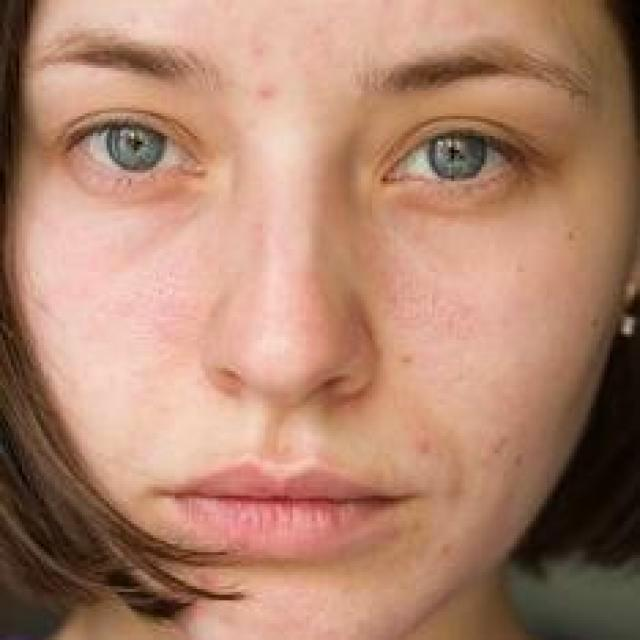Pimples: (394, 343, 413, 368), (252, 76, 268, 105), (416, 442, 424, 454)
